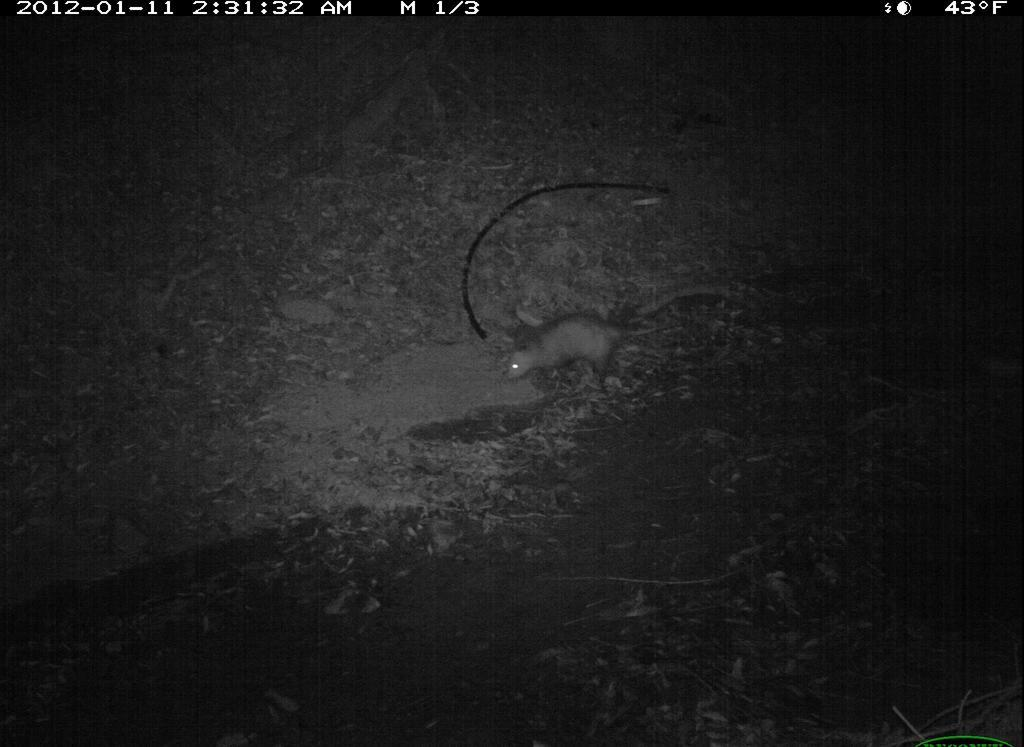opossum: (499, 304, 700, 394)
